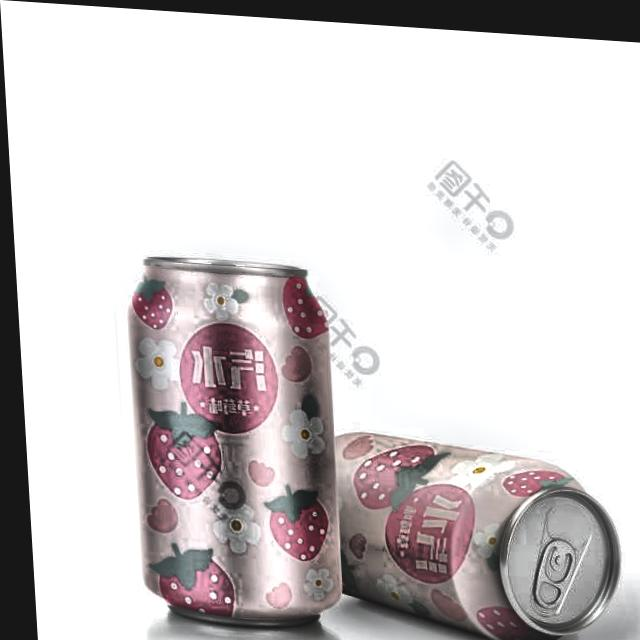can: (113, 244, 346, 636), (290, 418, 628, 640)
